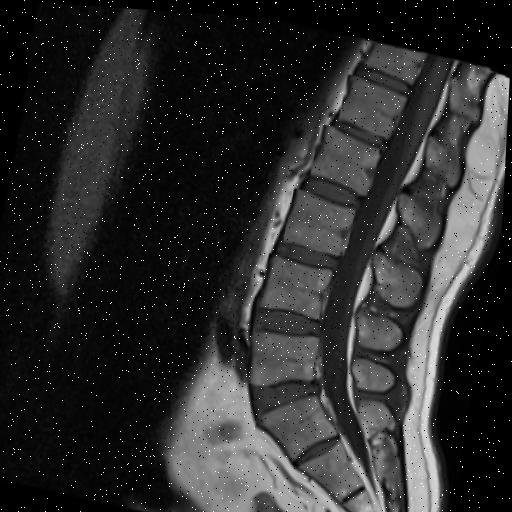L1: (339, 72, 405, 132)
L2: (311, 120, 381, 190)
L3: (285, 185, 357, 251)
L4: (261, 251, 335, 315)
L5: (254, 323, 323, 382)
S1: (260, 390, 339, 454)
